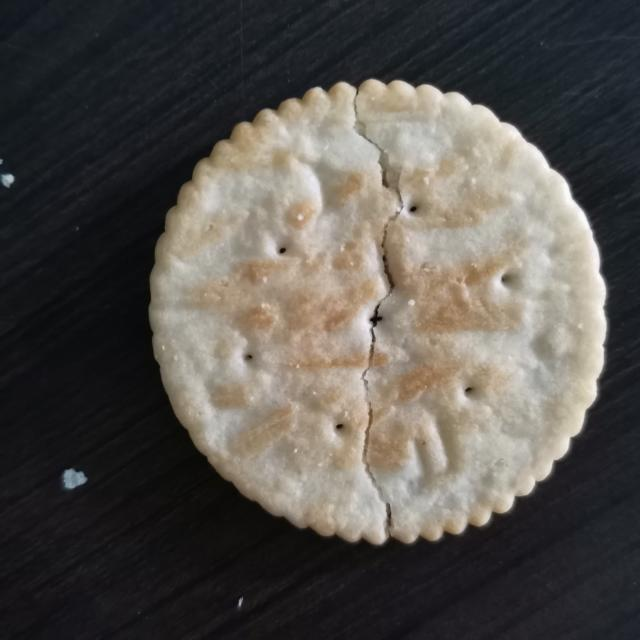Fracture: (329, 77, 421, 543)
